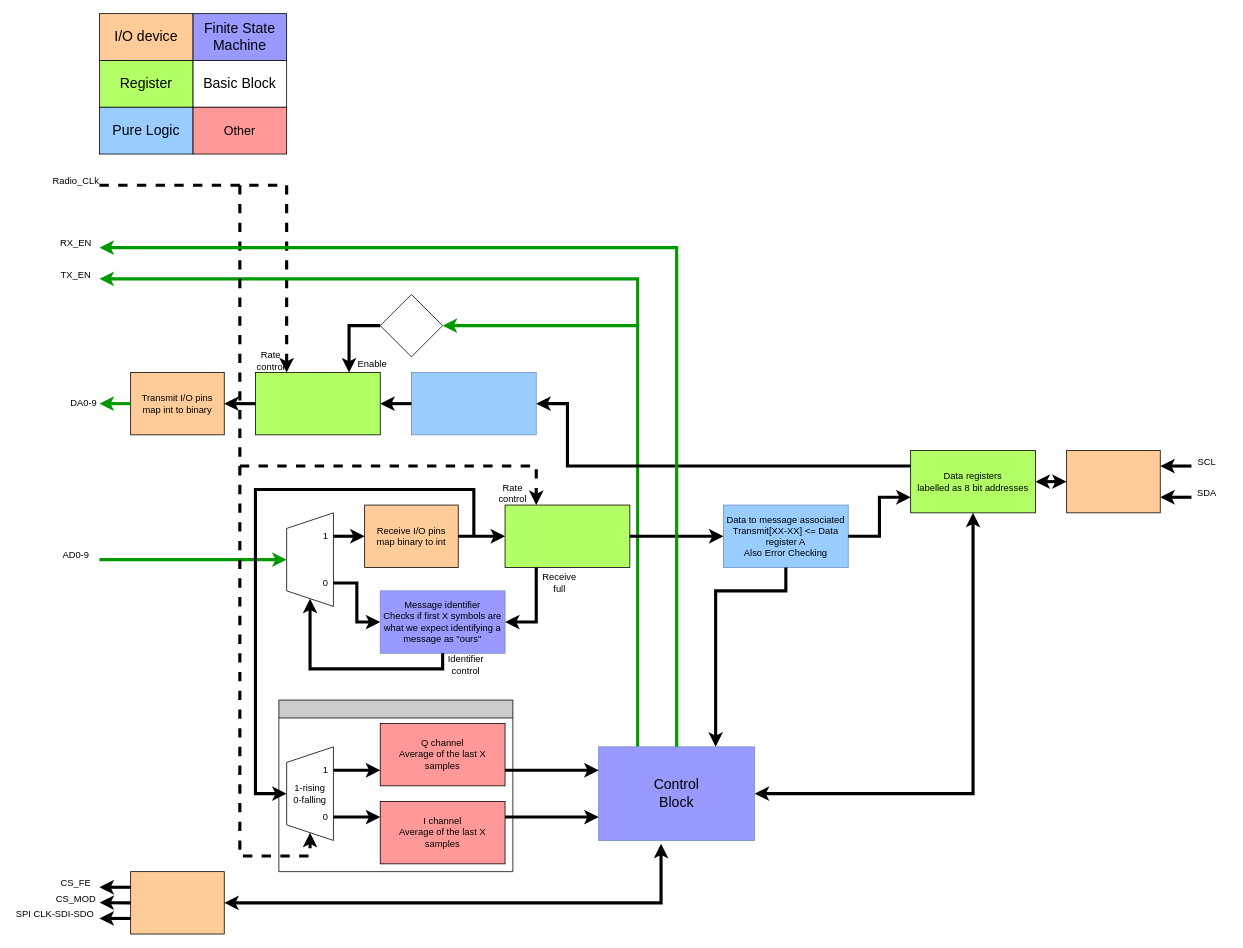
This 1243x948 diagram has some shape labels left out. The box of each missing label's shape, as (x1, y1, x2, y2) in pixels:
Data to message associated Transmit[XX-XX] <= Data register A: (411, 372, 536, 435)
I2C module: (1066, 450, 1160, 513)
Multiplexer: (286, 512, 333, 606)
Receive message register: (504, 504, 630, 567)
SPI module: (130, 871, 224, 934)
Time averaged to determine DC offset adjust: (278, 699, 513, 872)
Transmit message register: (255, 372, 380, 435)
Turn on Delay: (379, 294, 443, 357)
